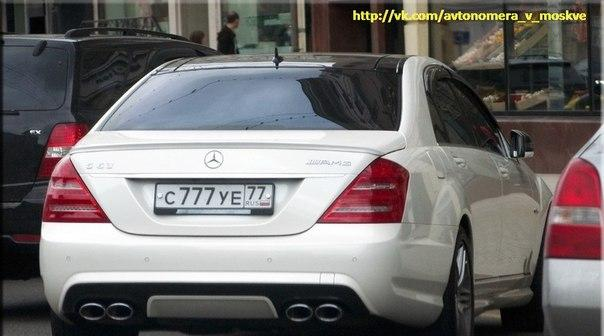license-plateSW: (155, 183, 275, 207)
